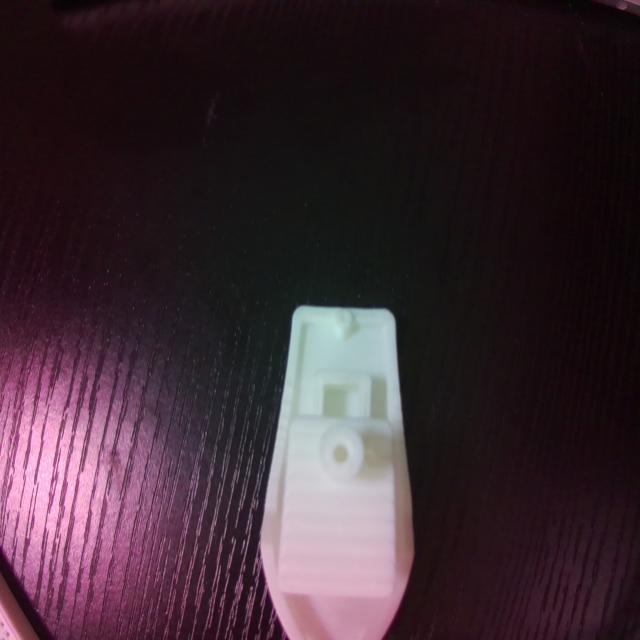ship: (258, 302, 415, 640)
